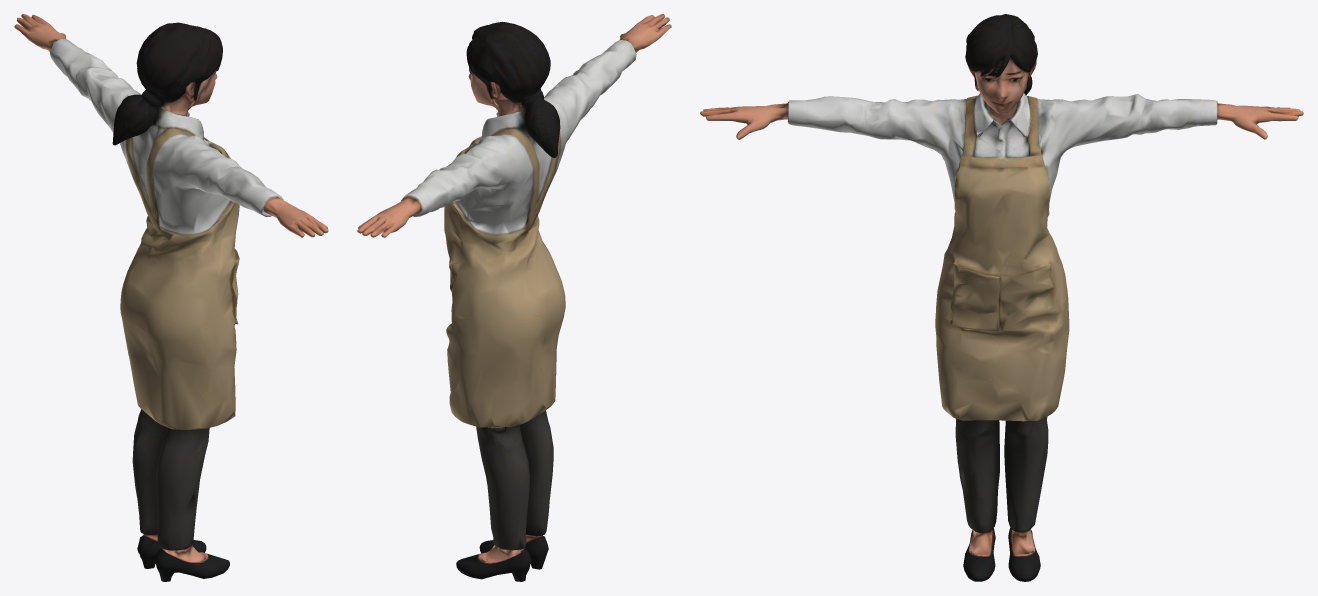
File: apron.glb
3 views of the same model, side by side, from view 1: azimuth 30°, elevation 25°; view 2: azimuth 150°, elevation 25°; view 3: azimuth 270°, elevation 25° (orthographic).
Visible parts, largest first — view 1: tripo_node_01ff1d99-e3e5-4292-8da6-8ac3b7762b55; view 2: tripo_node_01ff1d99-e3e5-4292-8da6-8ac3b7762b55; view 3: tripo_node_01ff1d99-e3e5-4292-8da6-8ac3b7762b55.
Boxes of the visible parts, <box> form: tripo_node_01ff1d99-e3e5-4292-8da6-8ac3b7762b55: <box>14,14,328,581</box>; tripo_node_01ff1d99-e3e5-4292-8da6-8ac3b7762b55: <box>357,14,671,581</box>; tripo_node_01ff1d99-e3e5-4292-8da6-8ac3b7762b55: <box>700,14,1303,581</box>.
Bounding box in the file's own units: 0.2121 × 0.9993 × 0.9998.
1 material, 1 textured.
